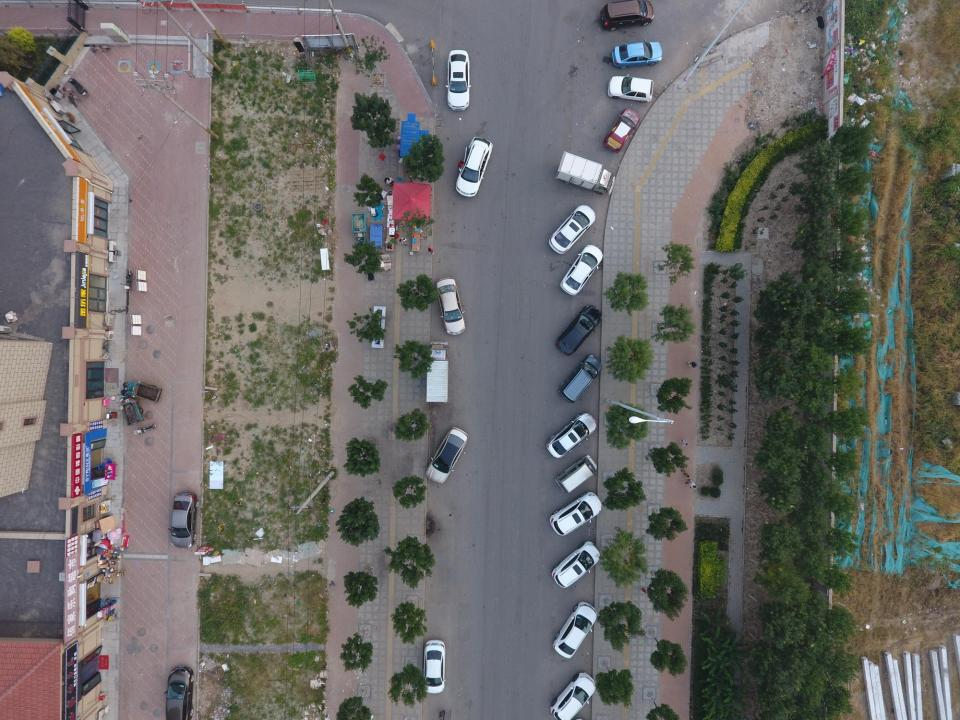car: (552, 602, 598, 659), (549, 541, 601, 588), (550, 490, 602, 536), (428, 426, 469, 483), (454, 136, 492, 197), (550, 204, 596, 254), (557, 306, 602, 357), (547, 414, 596, 460), (560, 245, 604, 296), (548, 672, 594, 720), (436, 277, 468, 336), (603, 108, 641, 154), (446, 49, 472, 111), (170, 491, 197, 548), (165, 666, 193, 720), (611, 39, 664, 67), (600, 2, 653, 30), (608, 74, 653, 103)
truck: (554, 152, 616, 196), (426, 340, 450, 403)
